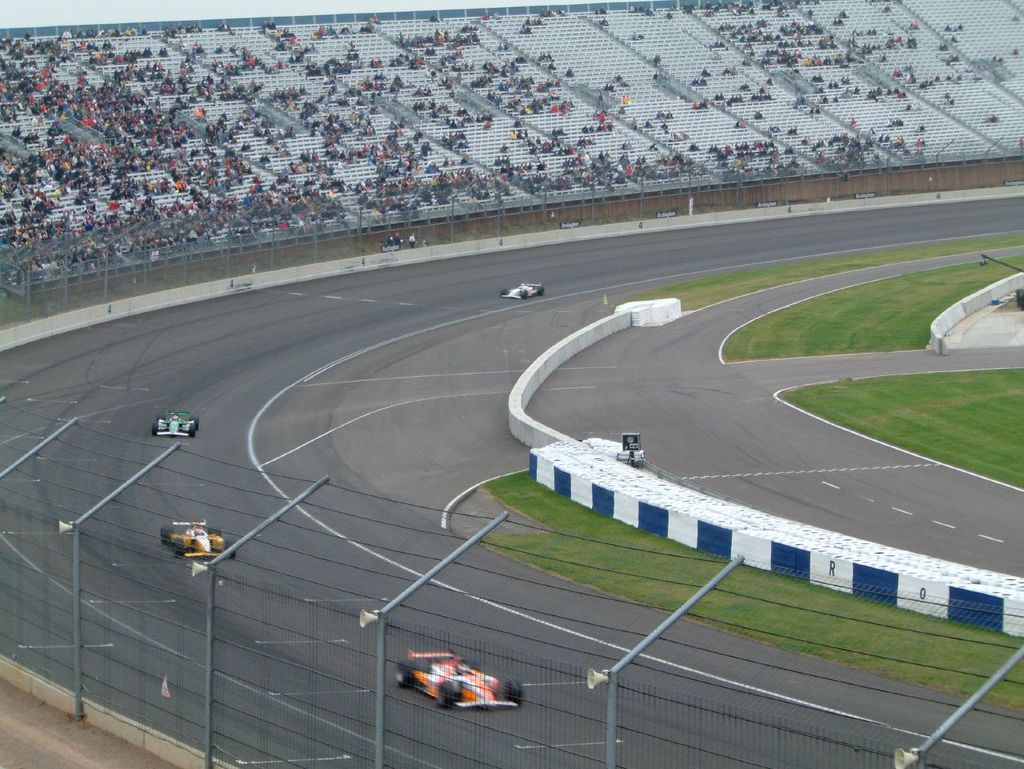Car: (393, 649, 528, 713), (160, 520, 236, 560), (147, 409, 202, 440), (504, 280, 547, 301)
